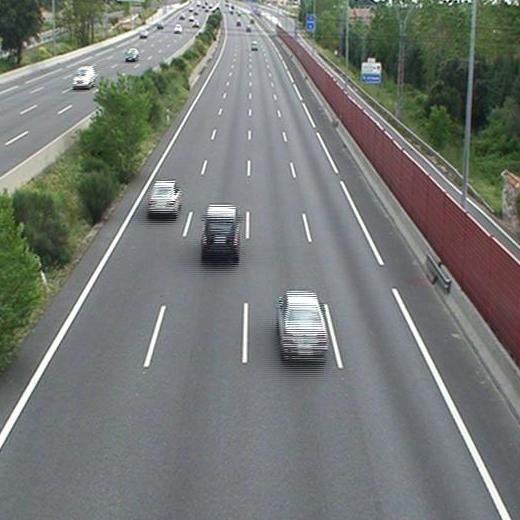car: (277, 291, 326, 357), (201, 207, 238, 254), (147, 182, 181, 213)
